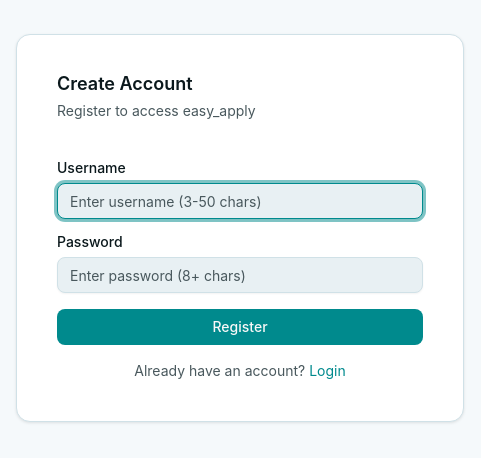
Test: RegisterPage › client-side validation › should show error for password too short
In the field labelled "Username": x=240, y=201 [57, 183, 423, 219], type "validuser"
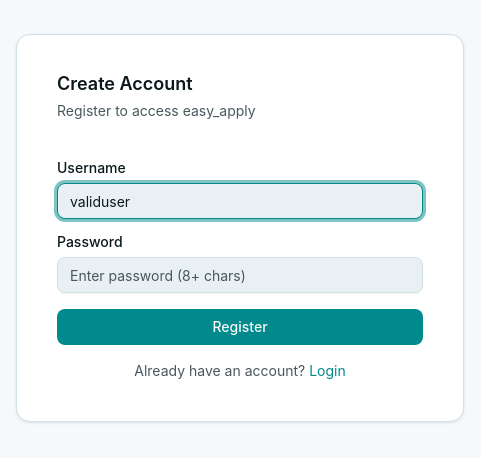
In the password field labelled "Password": x=240, y=275 [57, 257, 423, 293], type "short"
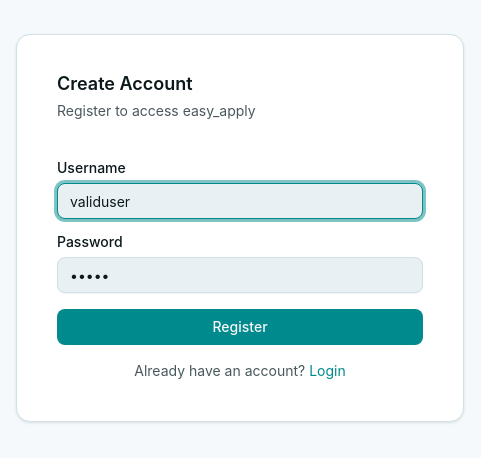
Click the button "Register": x=240, y=327 [57, 309, 423, 345]
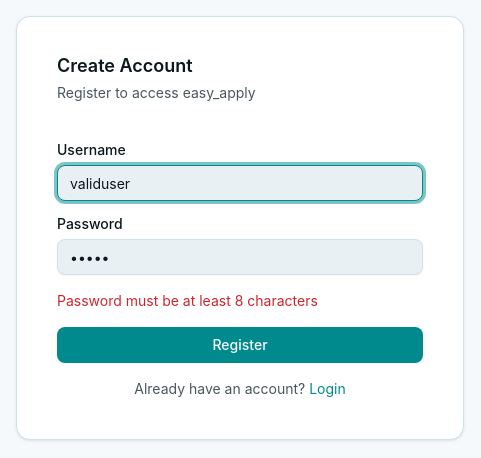
Expected: the message reads "Password must be at least 8 characters", [57, 292, 318, 309]
